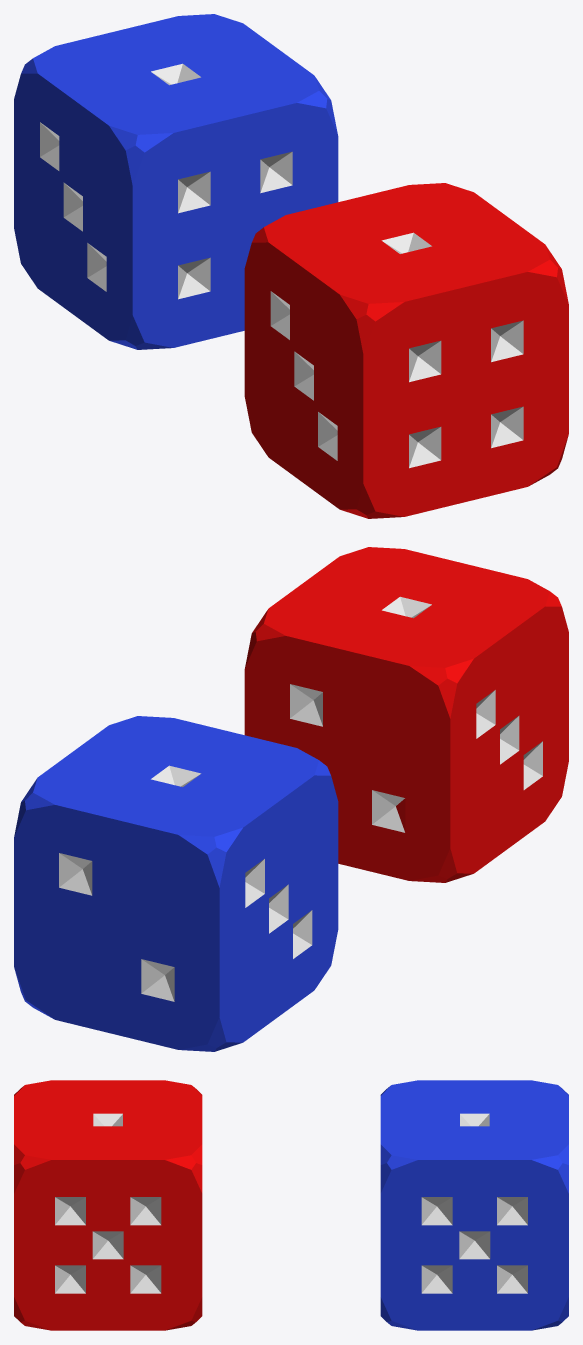
The model's file is DICE_1_.fbx.
The picture shows the model from 3 angles, top to bottom: view 1: azimuth 30°, elevation 25°; view 2: azimuth 150°, elevation 25°; view 3: azimuth 270°, elevation 25°; orthographic projection. The views are drawn at different scales.
Visible parts, largest first — view 1: Cube, Cube.001; view 2: Cube.001, Cube; view 3: Cube, Cube.001.
Boxes of the visible parts, left/top/right/bottom form: Cube: left=244, top=183, right=568, bottom=518; Cube.001: left=14, top=14, right=338, bottom=349; Cube.001: left=14, top=716, right=338, bottom=1051; Cube: left=244, top=547, right=568, bottom=882; Cube: left=14, top=1080, right=202, bottom=1330; Cube.001: left=380, top=1080, right=568, bottom=1330.
Bounding box in the file's own units: 59.01 × 59.01 × 174.
